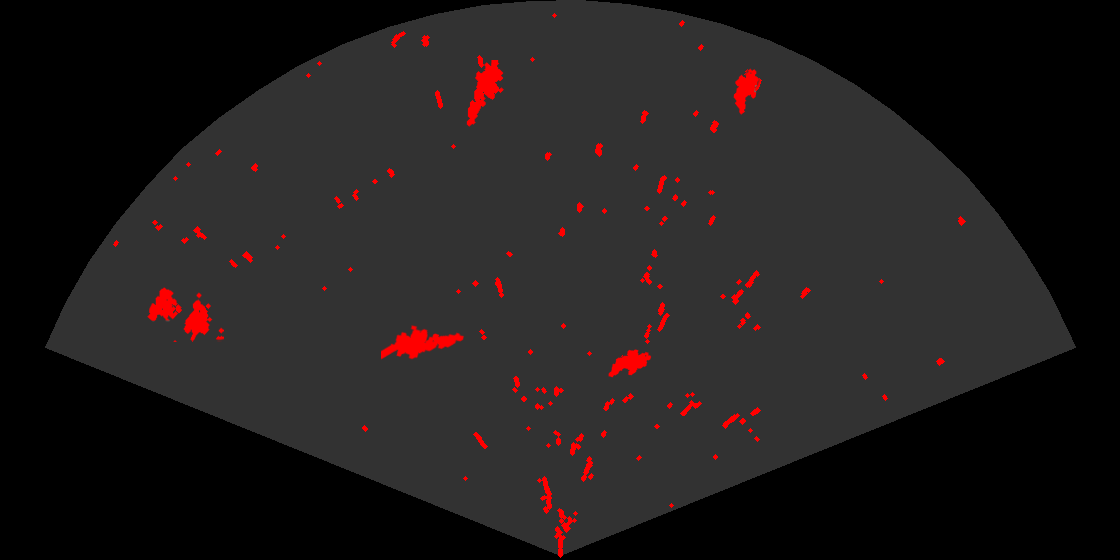AUV: (607, 348, 653, 379), (732, 67, 760, 116)
cage: (146, 286, 224, 342)
frogman: (381, 323, 466, 361), (465, 60, 505, 128)
